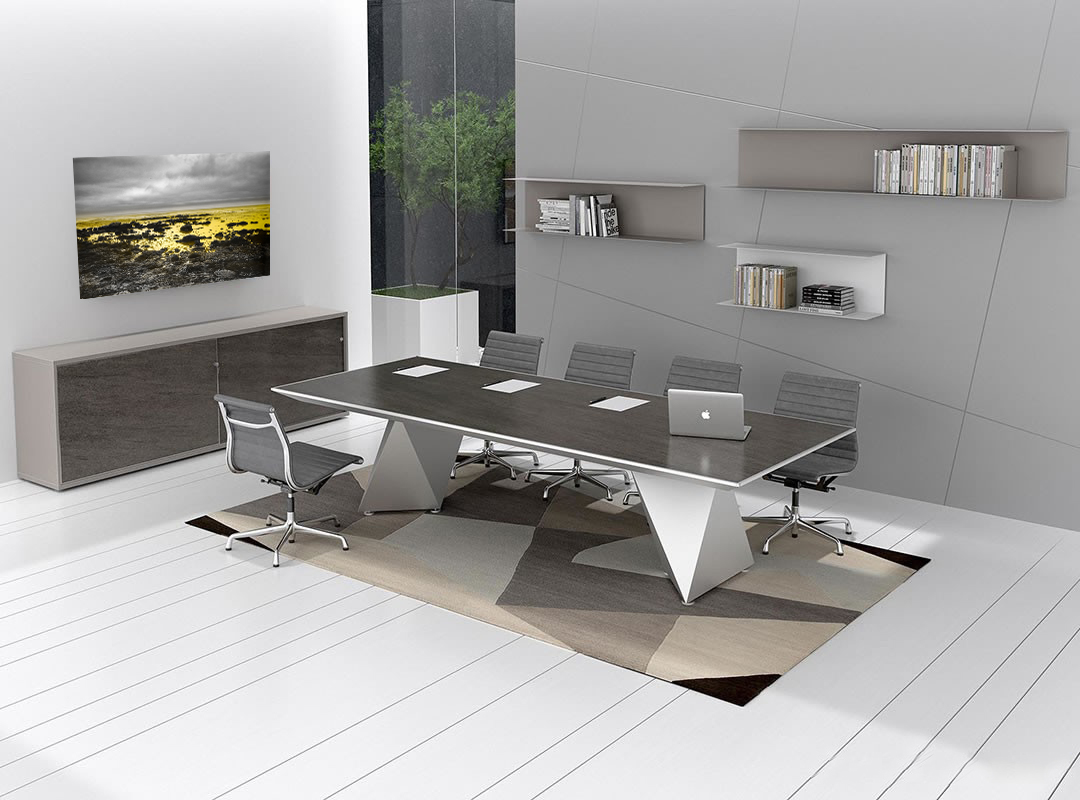conference_table: (272, 355, 857, 607)
